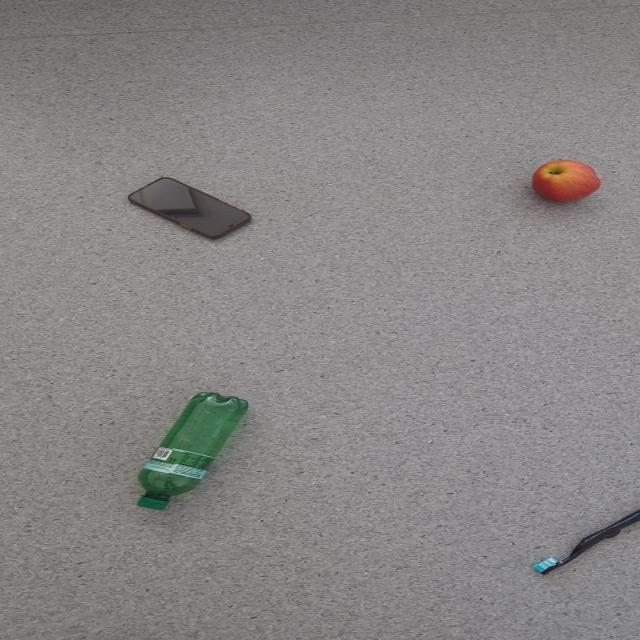apple: (530, 159, 600, 203)
bottle: (134, 391, 249, 510)
phone: (126, 176, 252, 240)
toothbrush: (529, 508, 639, 574)
